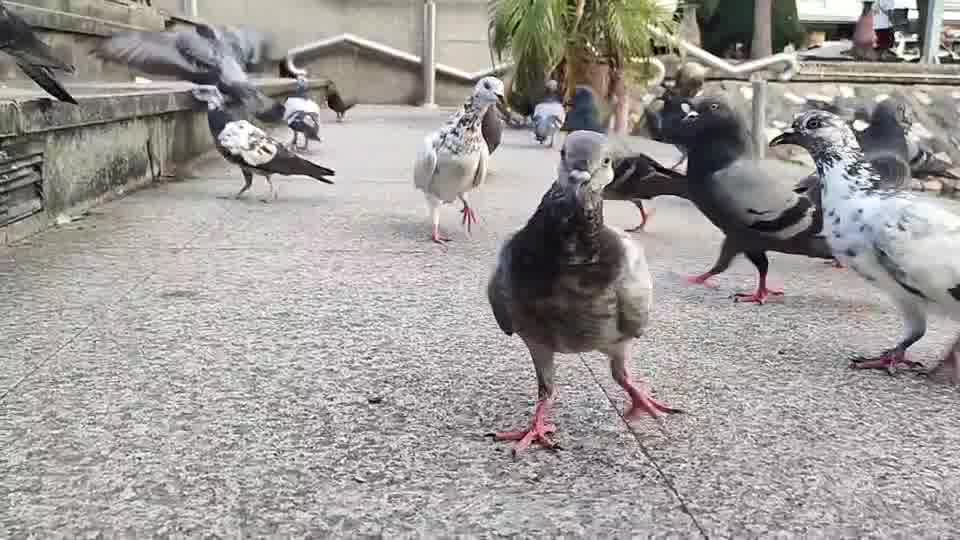Pigeon: (484, 128, 686, 457), (767, 108, 959, 387), (648, 93, 842, 305), (188, 84, 335, 203), (412, 75, 510, 243), (87, 27, 267, 112), (850, 95, 958, 190), (0, 2, 80, 105), (530, 78, 565, 147)
